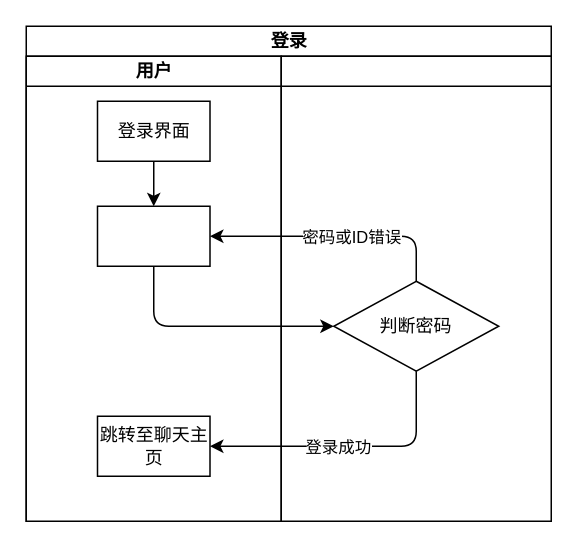
Image size: 578x548. Some labels were removed from this diagram. The box of each missing label's shape, as (x1, y1, x2, y2) in pixels:
系统: (280, 55, 551, 521)
输入用户ID、密码: (96, 205, 210, 266)
